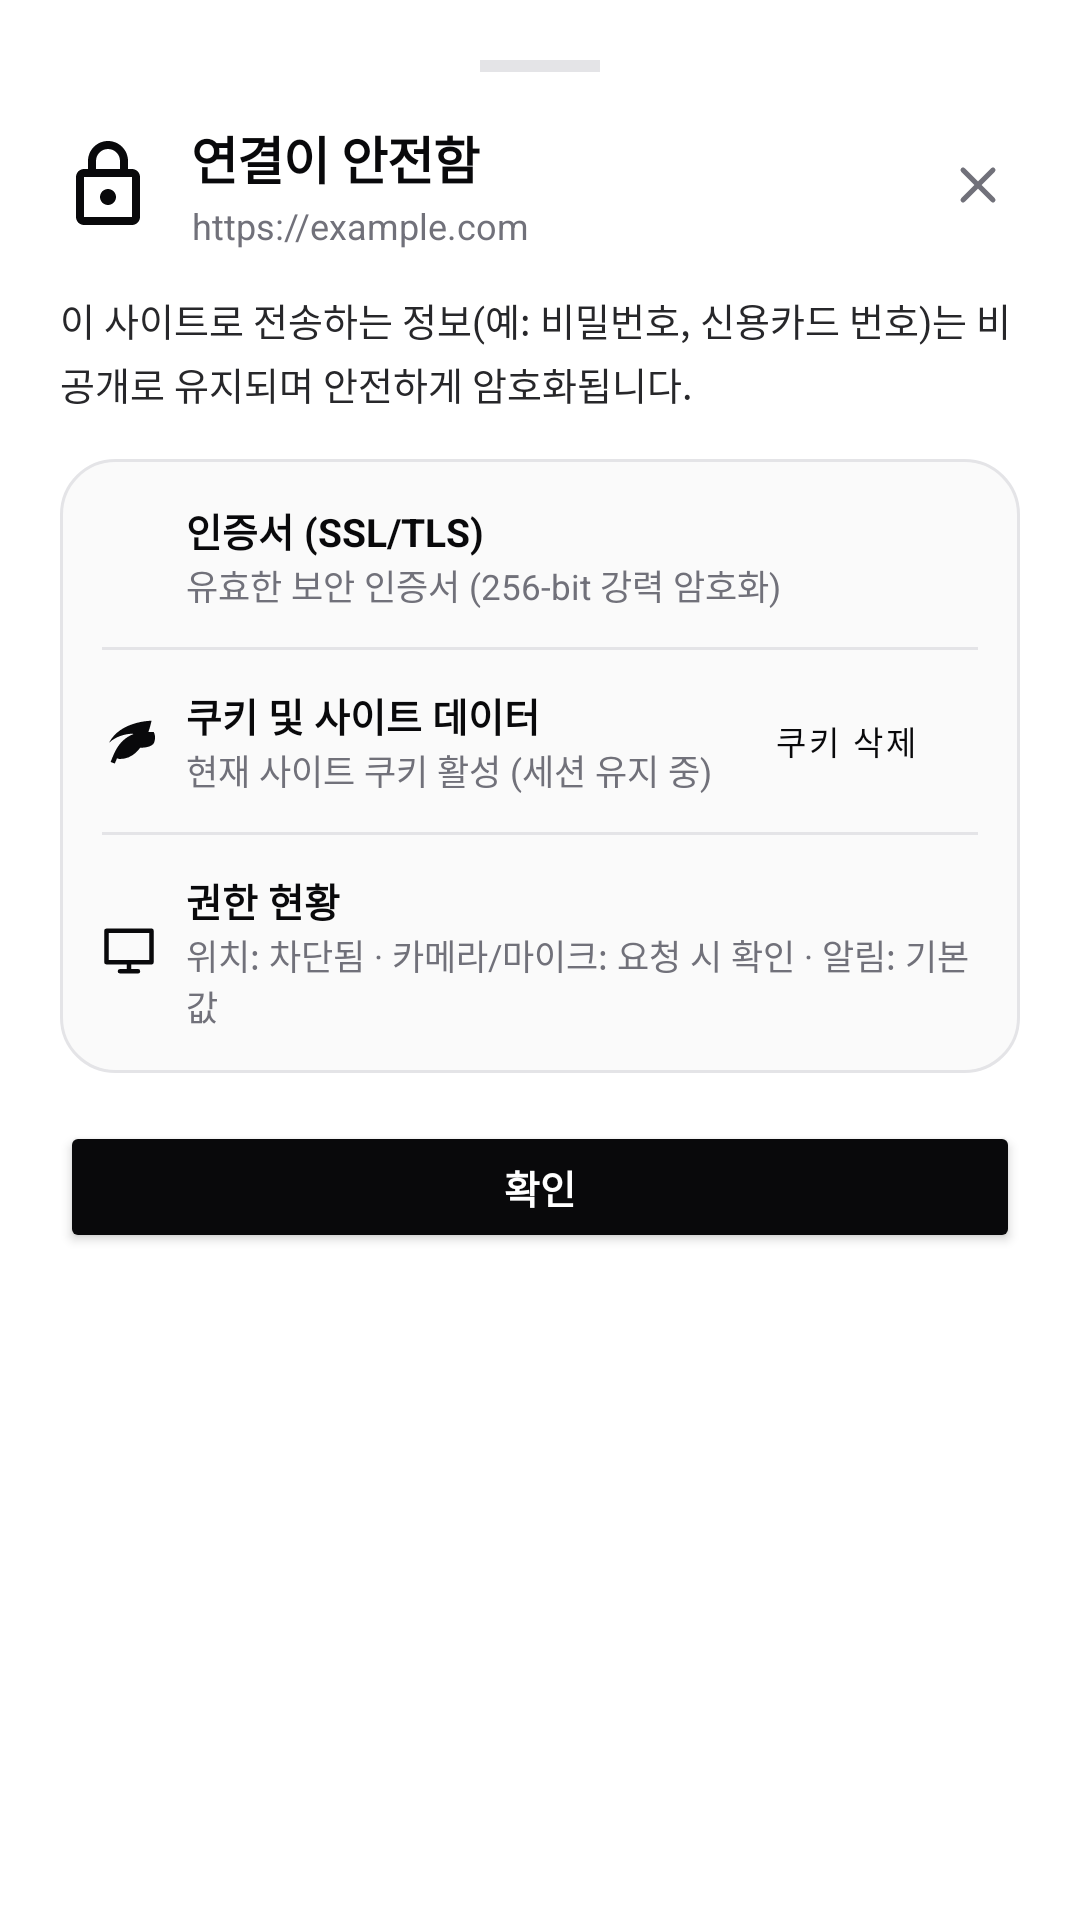

Icons on this 1080w x 1920h Android screen, each with the point to tap as (x,y):
Close: (978,185)
desktop: (129,951)
leaf: (132,742)
Security Status: (108,183)
